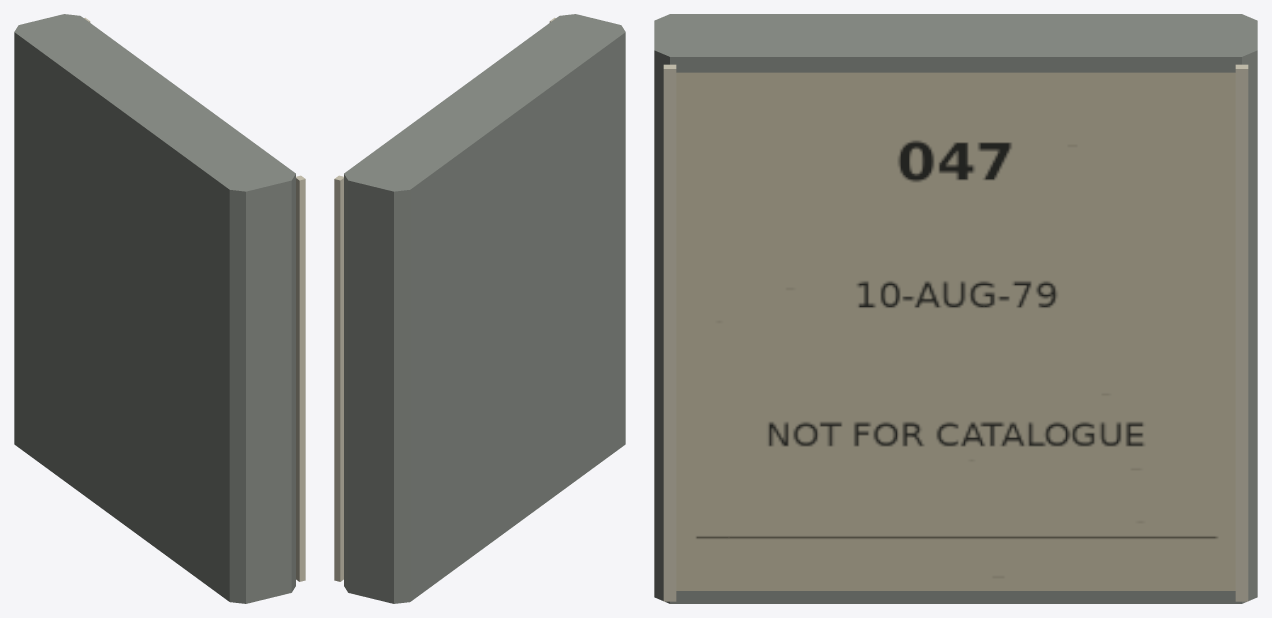
File: SM_ArchiveProps_Reel047Box_LOD2.fbx
3 views of the same model, side by side, from view 1: azimuth 30°, elevation 25°; view 2: azimuth 150°, elevation 25°; view 3: azimuth 270°, elevation 25° (orthographic). The views are drawn at different scales.
Visible parts, largest first — view 1: SM_ArchiveProps_Reel047Box_LOD2; view 2: SM_ArchiveProps_Reel047Box_LOD2; view 3: SM_ArchiveProps_Reel047Box_LOD2.
Part boxes in pixels (box(x1,y1,x2,y2)): SM_ArchiveProps_Reel047Box_LOD2: box(14, 14, 305, 603); SM_ArchiveProps_Reel047Box_LOD2: box(334, 14, 625, 603); SM_ArchiveProps_Reel047Box_LOD2: box(654, 14, 1257, 603).
Bounding box in the file's own units: 0.0355 × 0.19 × 0.19.
